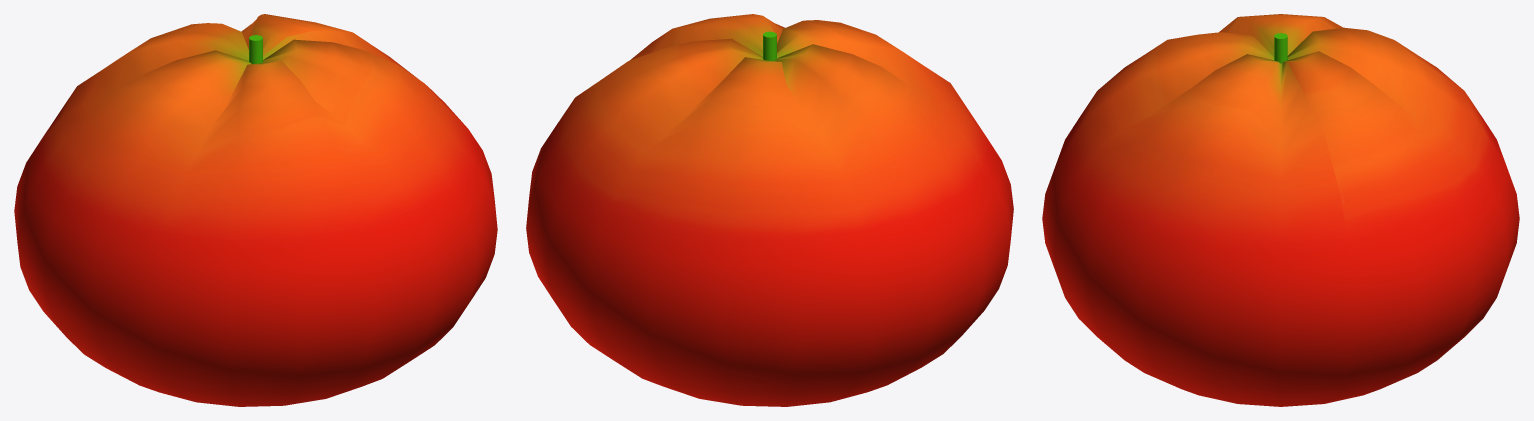
Rendered from tomato2.obj.
3 views of the same model, side by side, from view 1: azimuth 30°, elevation 25°; view 2: azimuth 150°, elevation 25°; view 3: azimuth 270°, elevation 25° (orthographic).
Visible parts, largest first — view 1: pasted__pSphere1 group; view 2: pasted__pSphere1 group; view 3: pasted__pSphere1 group.
Part boxes in pixels (box(x1,y1,x2,y2)): pasted__pSphere1 group: box(14, 14, 497, 406); pasted__pSphere1 group: box(526, 14, 1013, 406); pasted__pSphere1 group: box(1042, 14, 1519, 406).
Size of the model in its own units: 3.68 by 2.81 by 3.58.
1 material, 1 textured.
